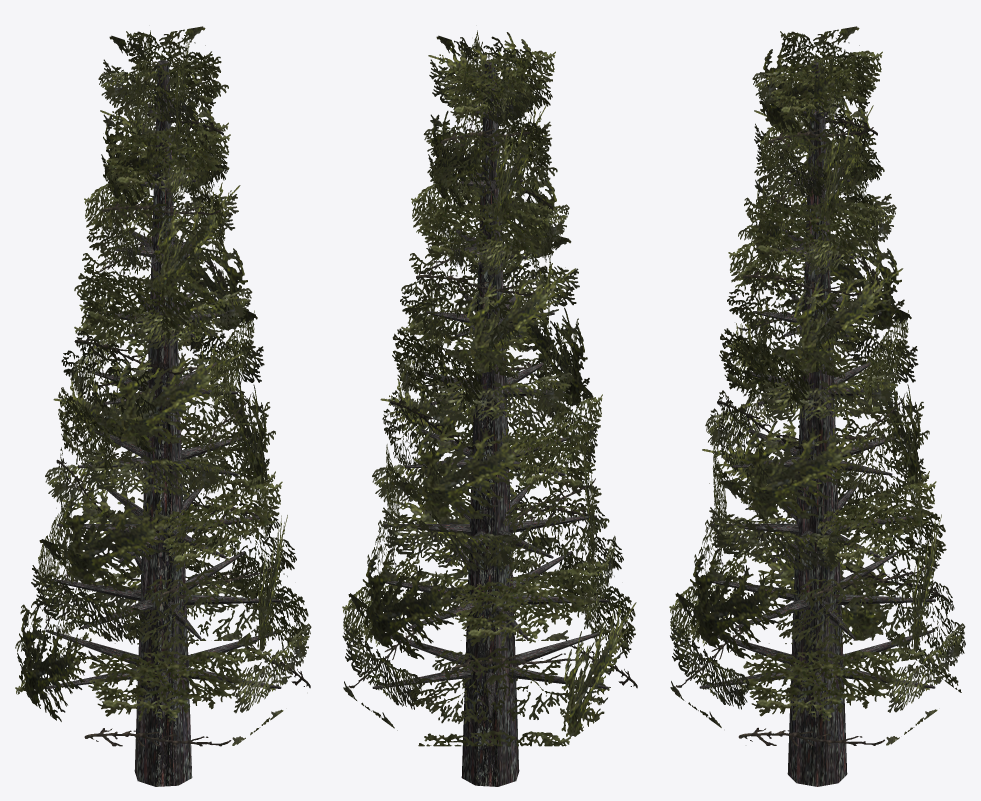
Rendered from conifer_green_512_material_test.glb.
3 views of the same model, side by side, from view 1: azimuth 30°, elevation 25°; view 2: azimuth 150°, elevation 25°; view 3: azimuth 270°, elevation 25° (orthographic).
Visible parts, largest first — view 1: foliage_cards, trunk, branch_1_2, branch_0_2, branch_1_5; view 2: foliage_cards, trunk, branch_0_4, branch_0_1; view 3: foliage_cards, trunk.
Boxes of the visible parts, box(x1,y1,x2,y2) form: foliage_cards: box(15, 26, 311, 746); trunk: box(134, 60, 192, 786); branch_1_2: box(51, 579, 141, 601); branch_0_2: box(45, 629, 138, 666); branch_1_5: box(183, 594, 282, 605); foliage_cards: box(342, 30, 637, 746); trunk: box(461, 61, 519, 786); branch_0_4: box(515, 629, 607, 665); branch_0_1: box(372, 668, 472, 688); foliage_cards: box(669, 26, 965, 745); trunk: box(787, 61, 847, 786).
Bounding box in the file's own units: 2.57 × 7.61 × 2.81.
2 materials, 2 textured.
